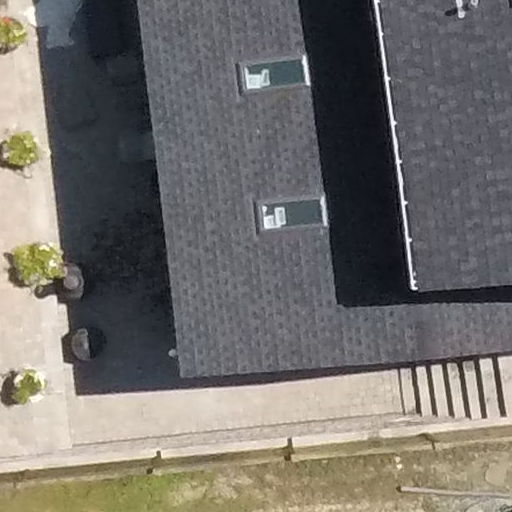flower pot: (3, 237, 68, 297), (4, 361, 47, 410), (1, 125, 40, 176), (1, 17, 27, 54)
